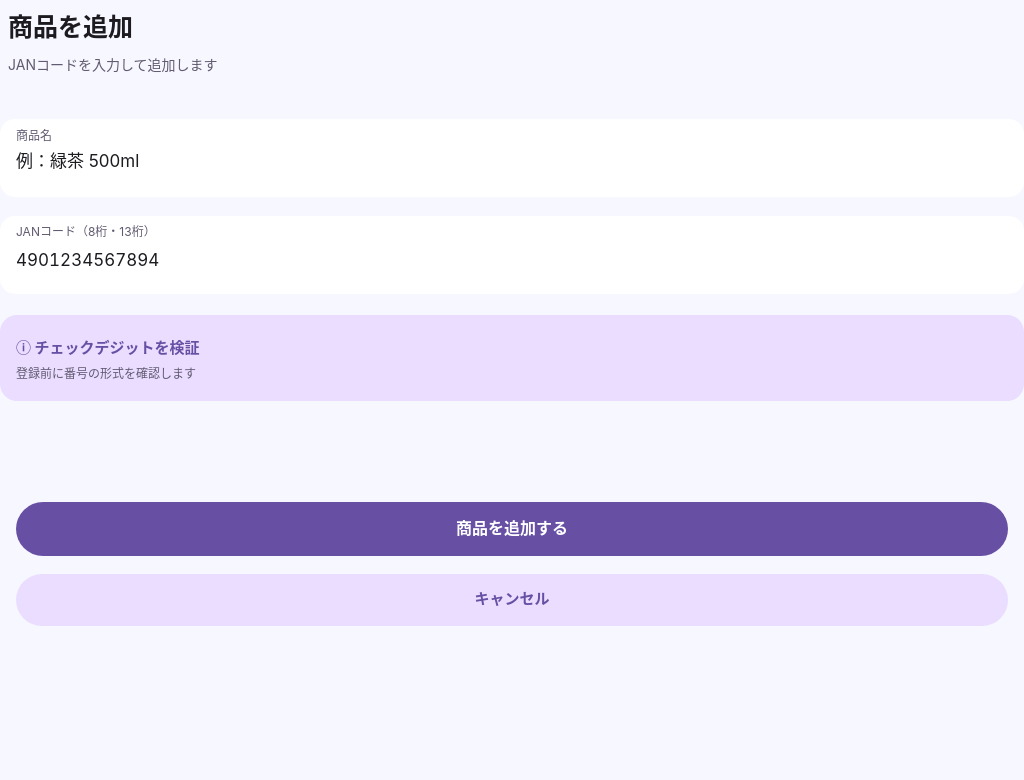
it: ManualAddForm › チェックデジット不正は追加せず修正を促す
Step 1. Type "4901234567890" into the field labelled "JANコード（8桁・13桁）" → (512, 260), box [16,239,1008,281]
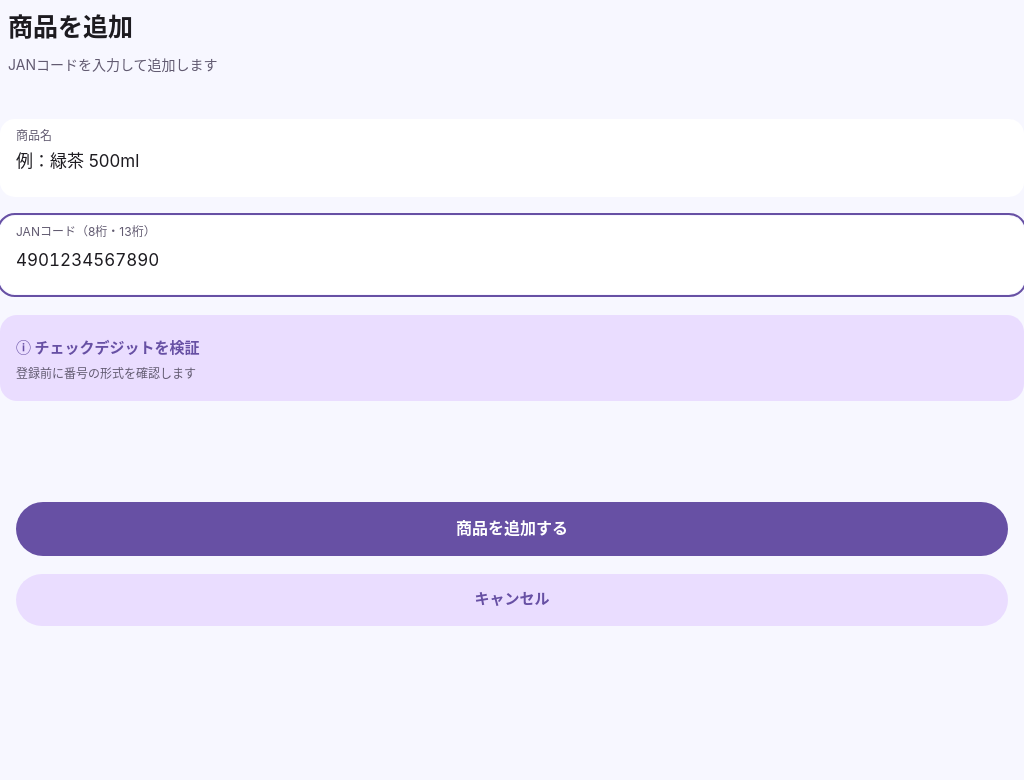
Step 2. Click the button "商品を追加する" → (512, 529), box [16,502,1008,556]
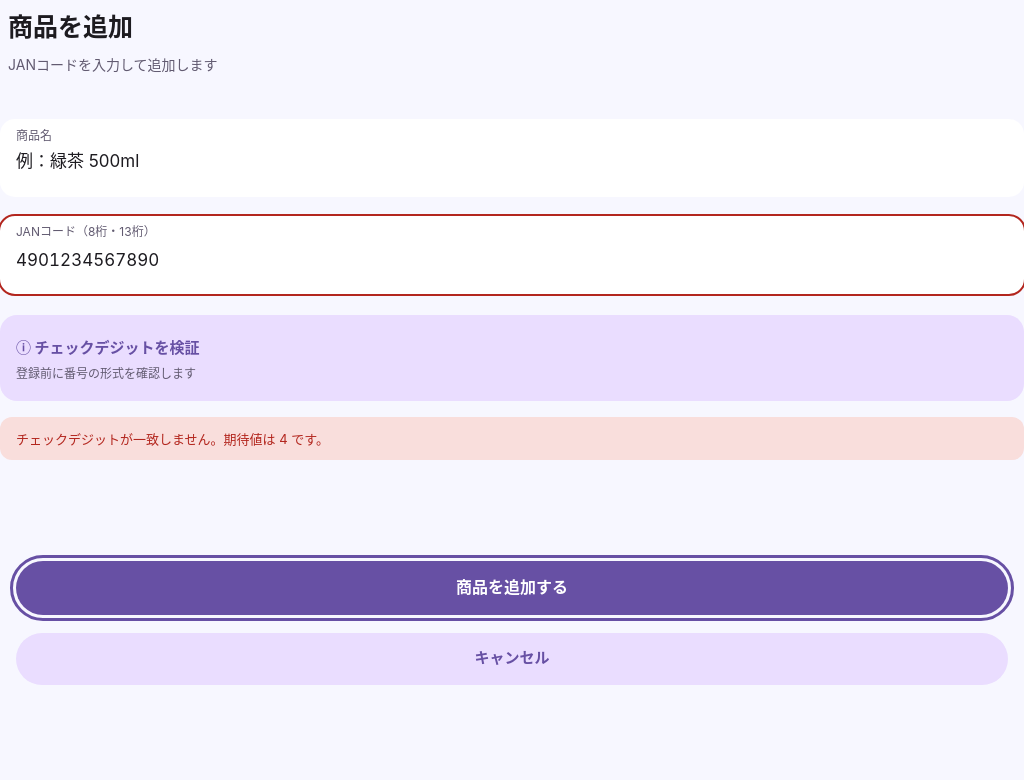
expect the message reads "チェックデジットが一致しません。期待値は 4 です。": met, box [16,431,329,447]
